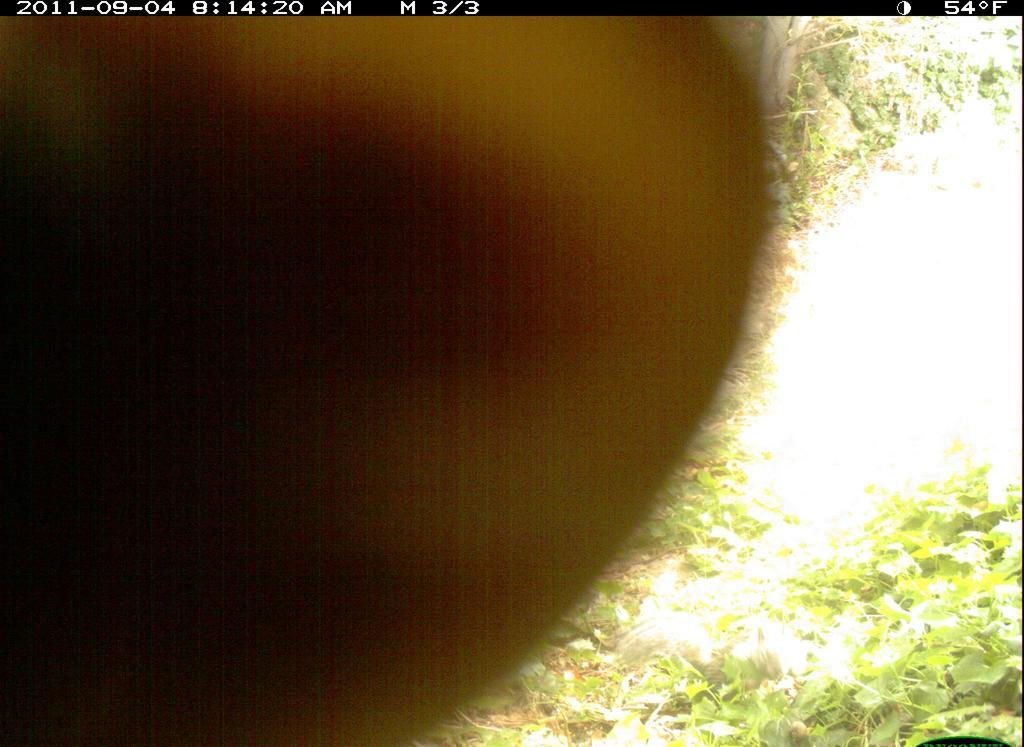squirrel: (3, 15, 804, 747)
